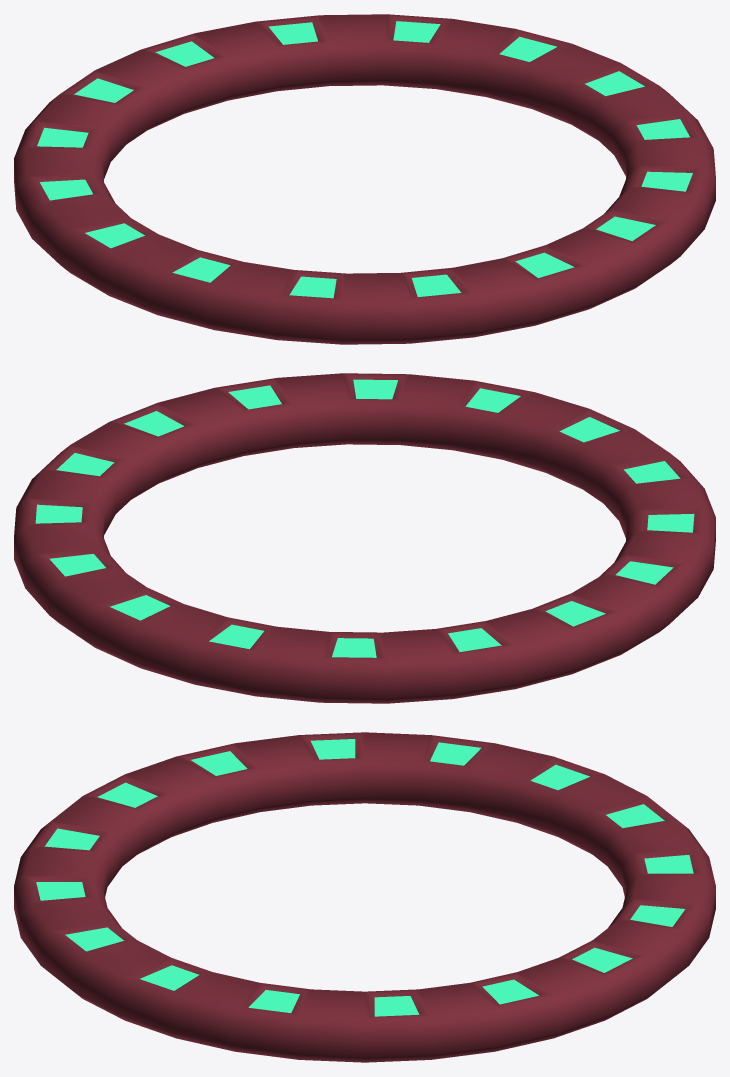
File: maroon_teal.glb
The picture shows the model from 3 angles, top to bottom: view 1: azimuth 30°, elevation 25°; view 2: azimuth 150°, elevation 25°; view 3: azimuth 270°, elevation 25°; orthographic projection.
Parts seen in each view (by area): view 1: MarketTileBuilder; view 2: MarketTileBuilder; view 3: MarketTileBuilder.
Boxes of the visible parts, x1=… form: MarketTileBuilder: x1=14, y1=14, x2=715, y2=344; MarketTileBuilder: x1=14, y1=373, x2=715, y2=703; MarketTileBuilder: x1=14, y1=732, x2=715, y2=1062.
Bounding box in the file's own units: 1.41 × 0.0957 × 1.41.
